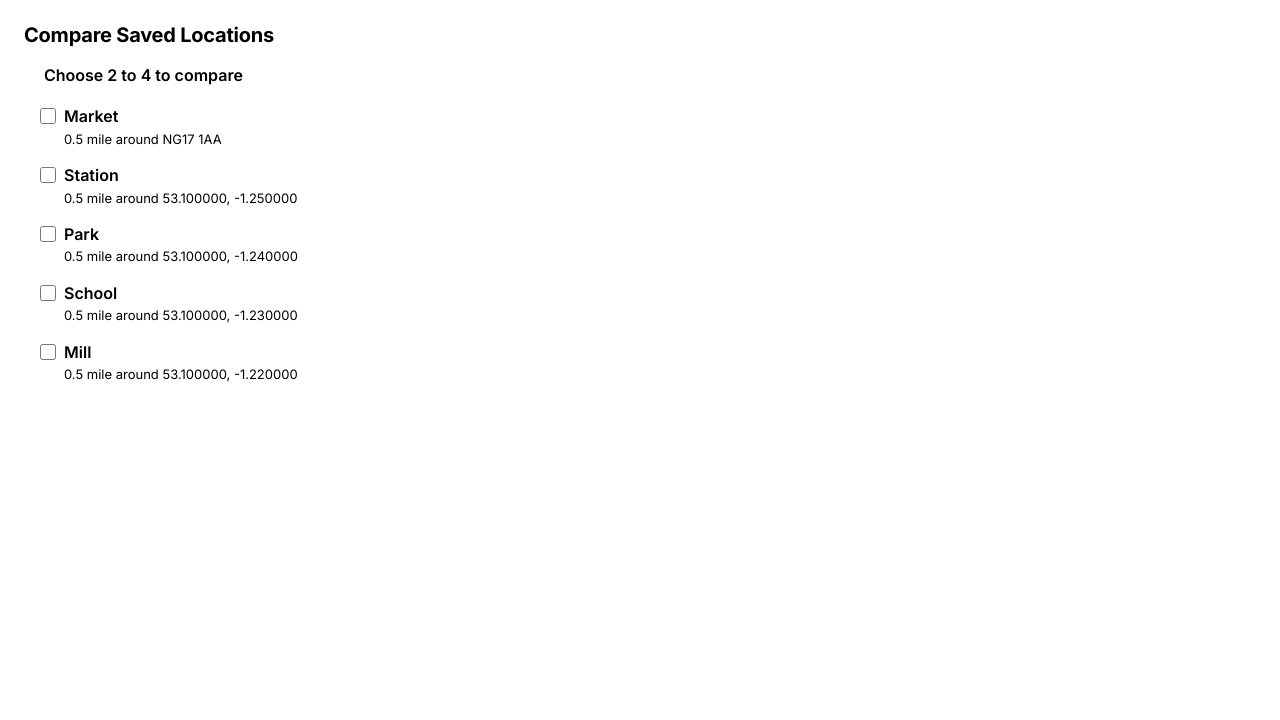
Scenario: ComparePanel › weighs every Location Score by the user's own weights
This screenshot has width=1280, height=720.
Click the checkbox labelled "Market". click: (48, 116)
box: top-left (40, 108), bottom-right (56, 124)
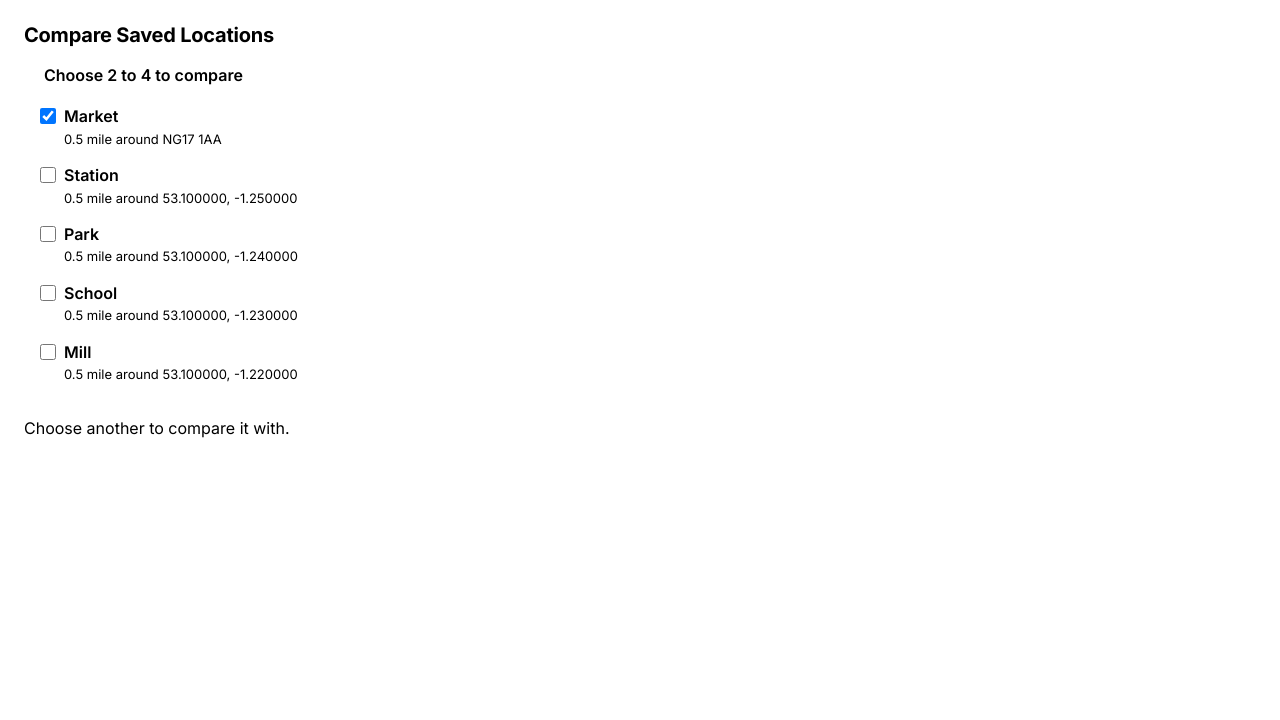
Click the checkbox labelled "Station". click: (48, 175)
box: top-left (40, 167), bottom-right (56, 183)
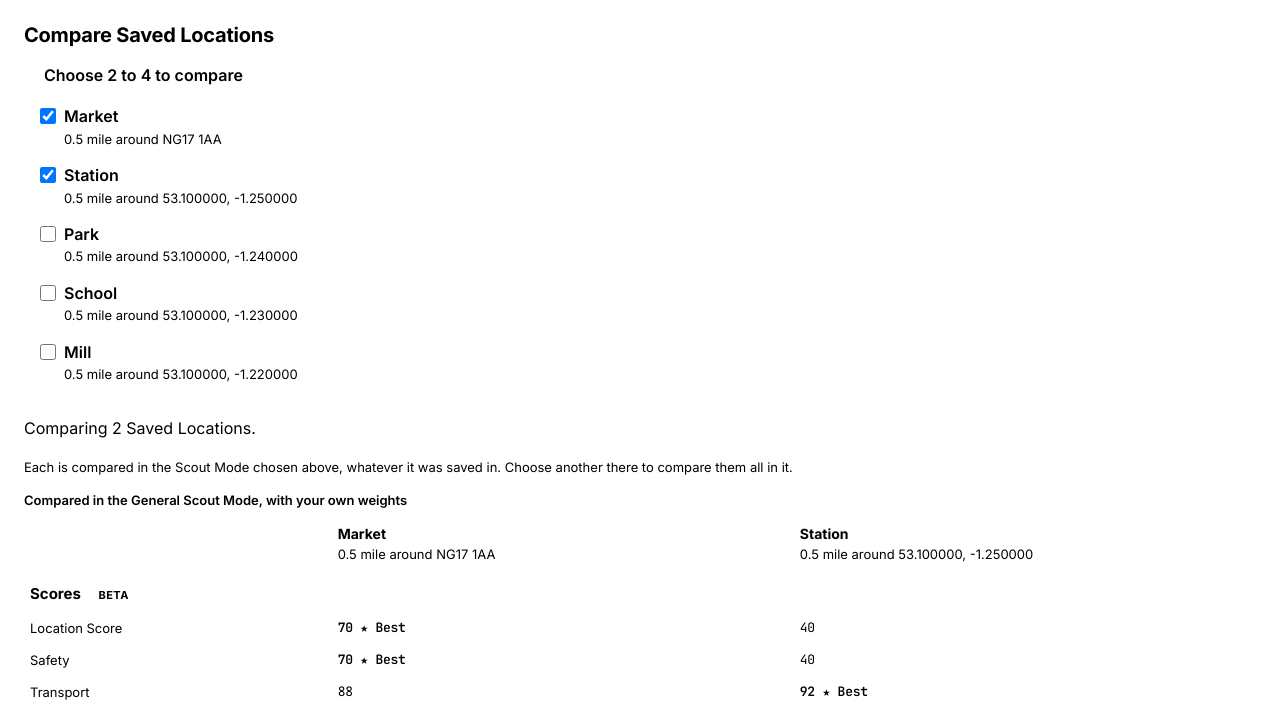
Expected: the text "Compared in the General Scout Mode, with your own weights" is shown, top-left (24, 492), bottom-right (407, 508)
